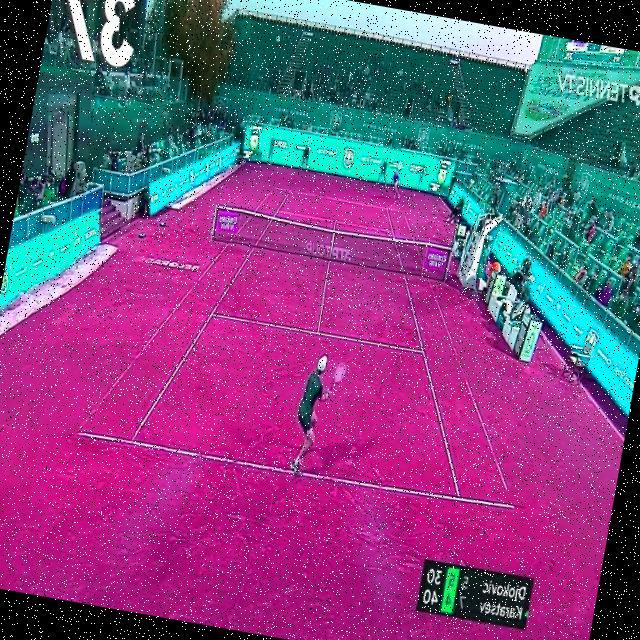court: (76, 160, 562, 513)
net: (209, 205, 452, 281)
player: (286, 350, 348, 481)
